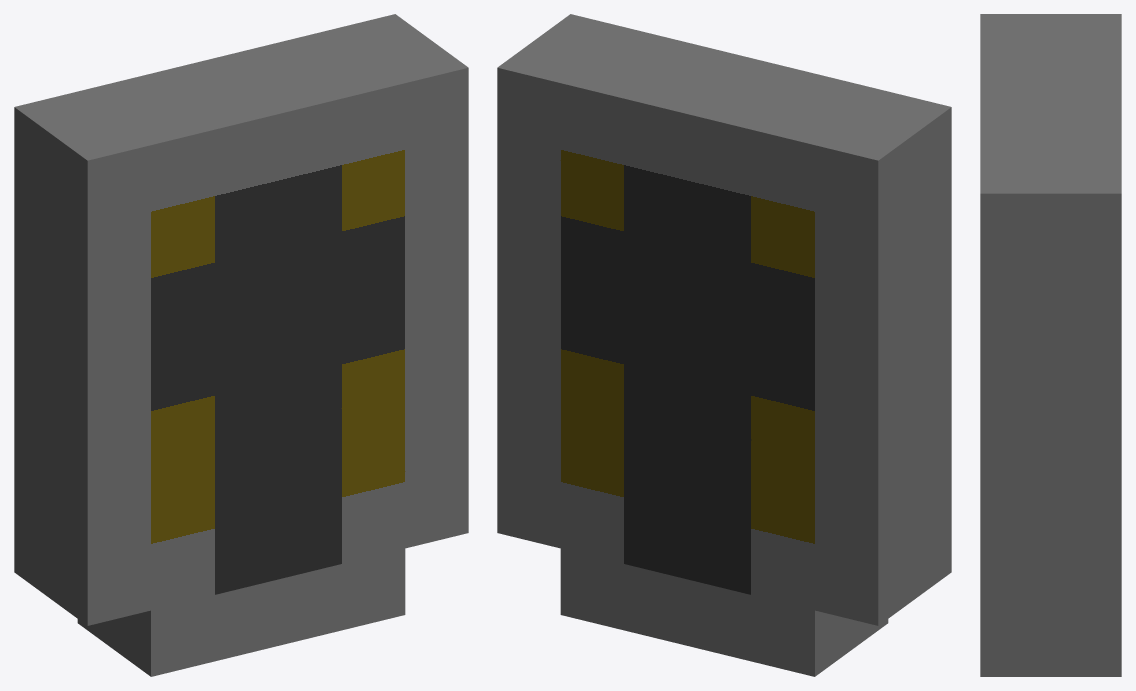
File: item_shield.fbx
The picture shows the model from 3 angles, left to right: view 1: azimuth 30°, elevation 25°; view 2: azimuth 150°, elevation 25°; view 3: azimuth 270°, elevation 25°; orthographic projection. The views are drawn at different scales.
Visible parts, largest first — view 1: item_shield; view 2: item_shield; view 3: item_shield.
Boxes of the visible parts, x1,y1,x2,y2 form: item_shield: (14,14,468,676); item_shield: (497,14,951,676); item_shield: (980,14,1121,676).
Bounding box in the file's own units: 6 × 8 × 2.
